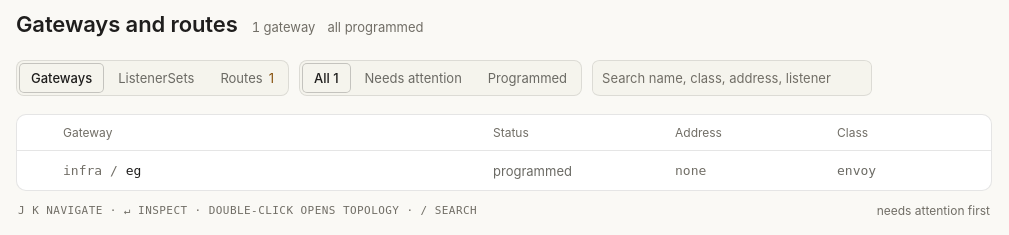
it: the Routes part view › a counted route fault marks the header as a fault
This screenshot has width=1009, height=235.
Click the button "Routes 1" at (247, 78), box [208, 63, 286, 93]
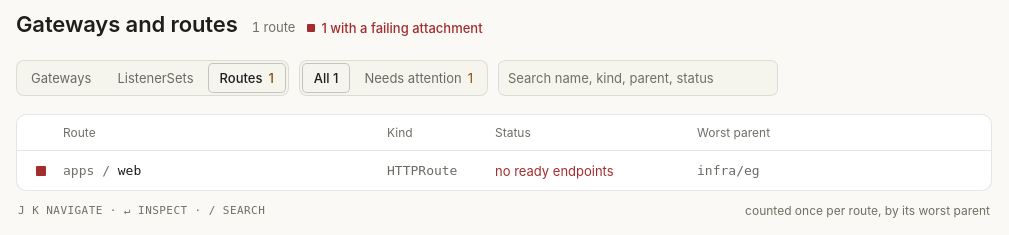
Now the element with test id "route-attention" reads "1 with a failing attachment", box [322, 20, 483, 36]
